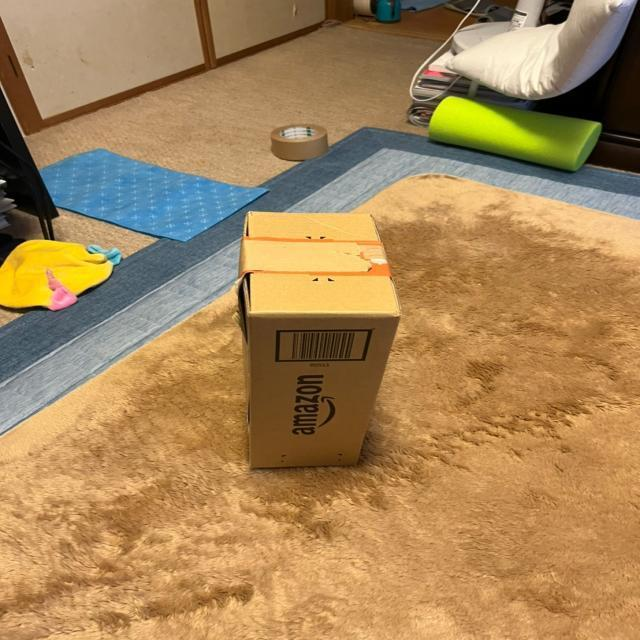box: (228, 204, 404, 476)
